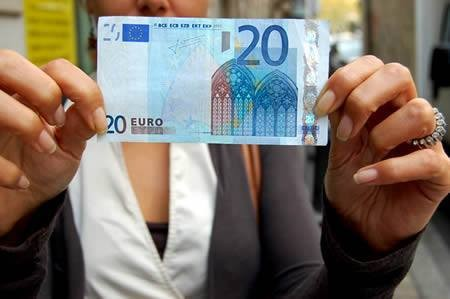billete: (97, 15, 331, 147)
